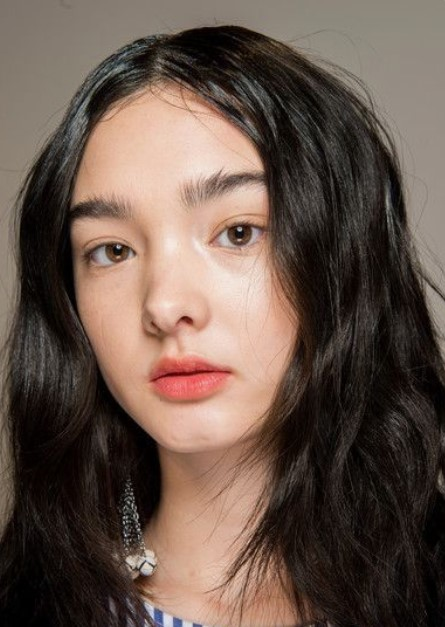face_no_mask: (49, 26, 389, 476)
